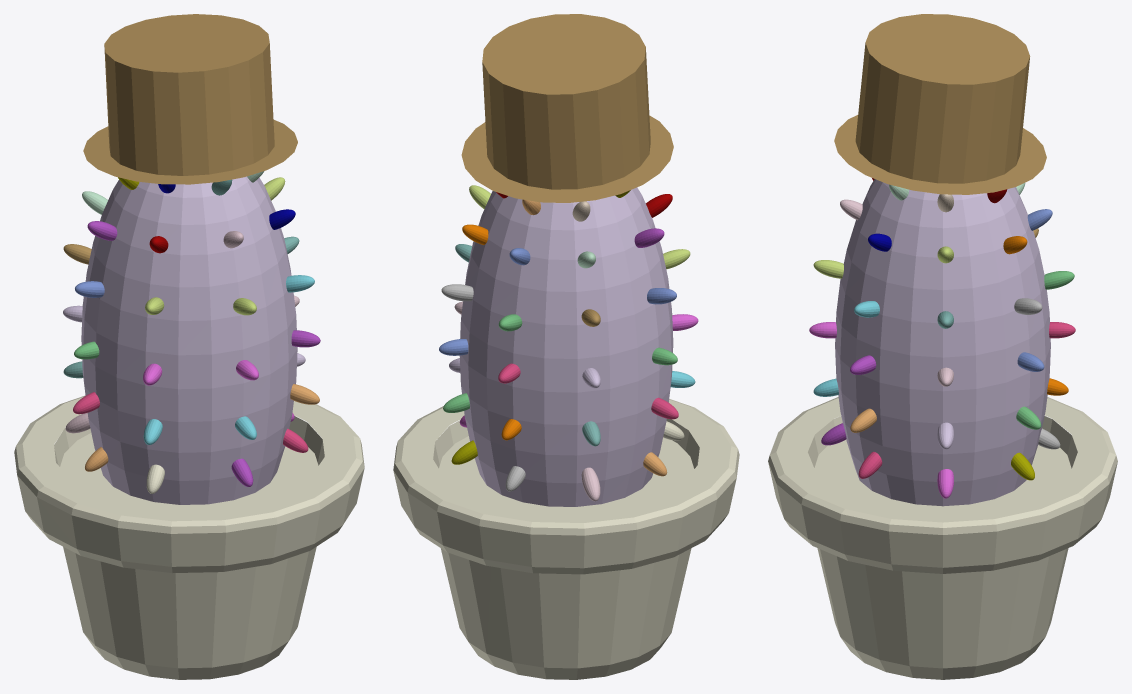
Rendered from full_14.glb.
The picture shows the model from 3 angles, left to right: view 1: azimuth 30°, elevation 25°; view 2: azimuth 150°, elevation 25°; view 3: azimuth 270°, elevation 25°; orthographic projection.
Visible parts, largest first — view 1: world; view 2: world; view 3: world.
Part boxes in pixels (bbox=[...]): world: bbox=[14, 14, 364, 679]; world: bbox=[393, 14, 739, 679]; world: bbox=[768, 14, 1117, 679].
Size of the model in its own units: 0.4221 by 0.8023 by 0.4221.
